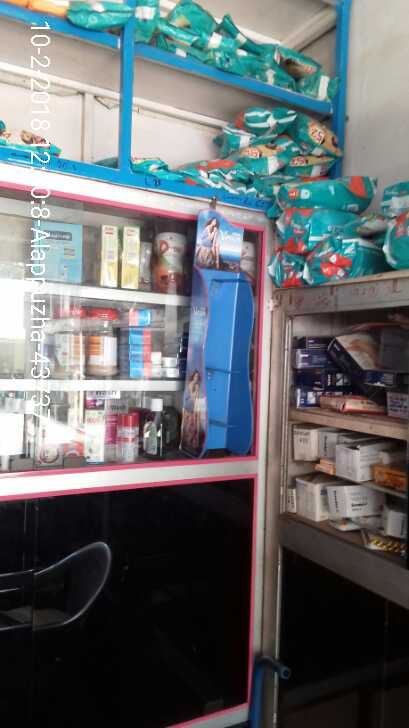reject: (114, 258, 208, 329)
